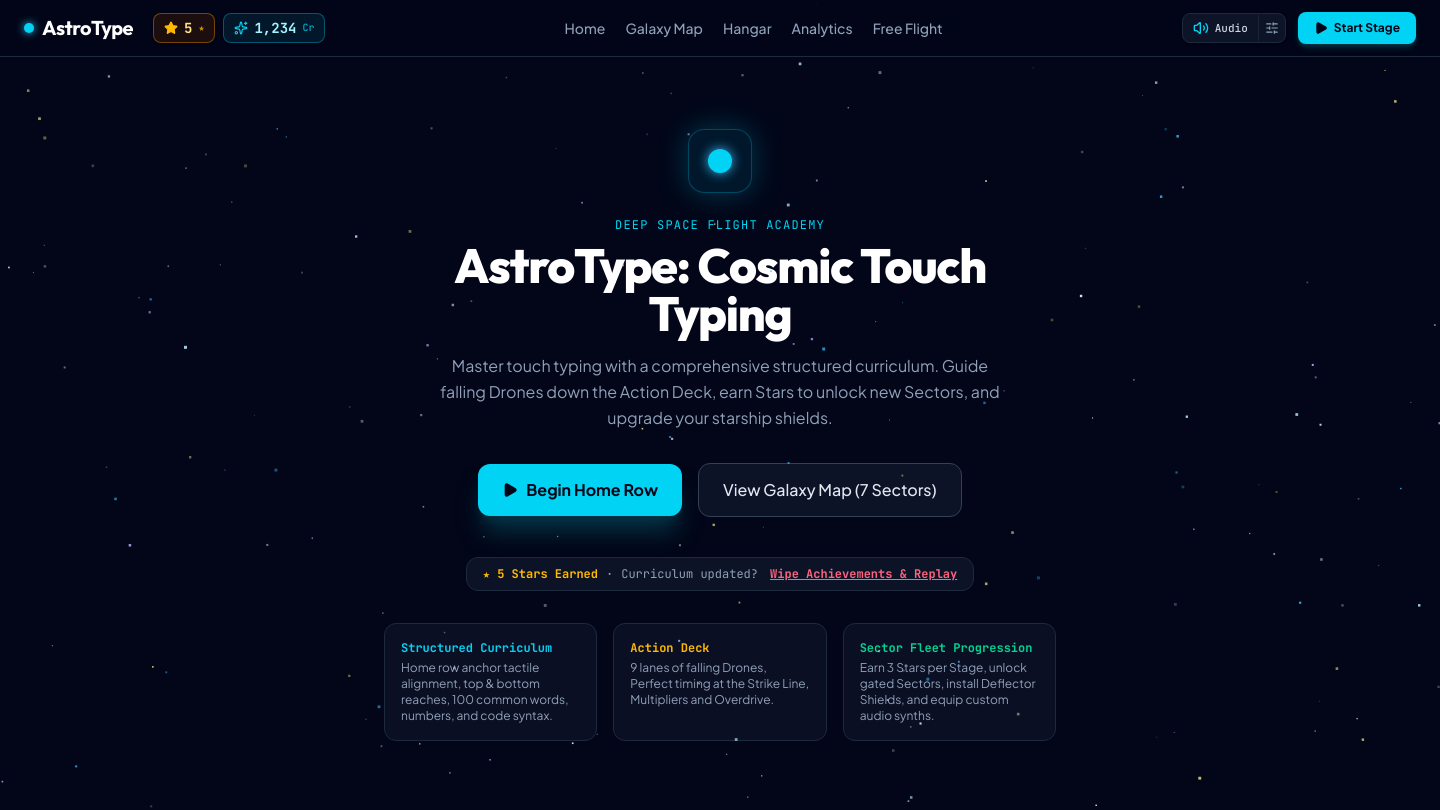
the audio panel › opens and closes with its settings button
Click the button named "Open Audio Flight Deck Settings".
click(1271, 28)  # box x1=1258 y1=15 x2=1285 y2=41
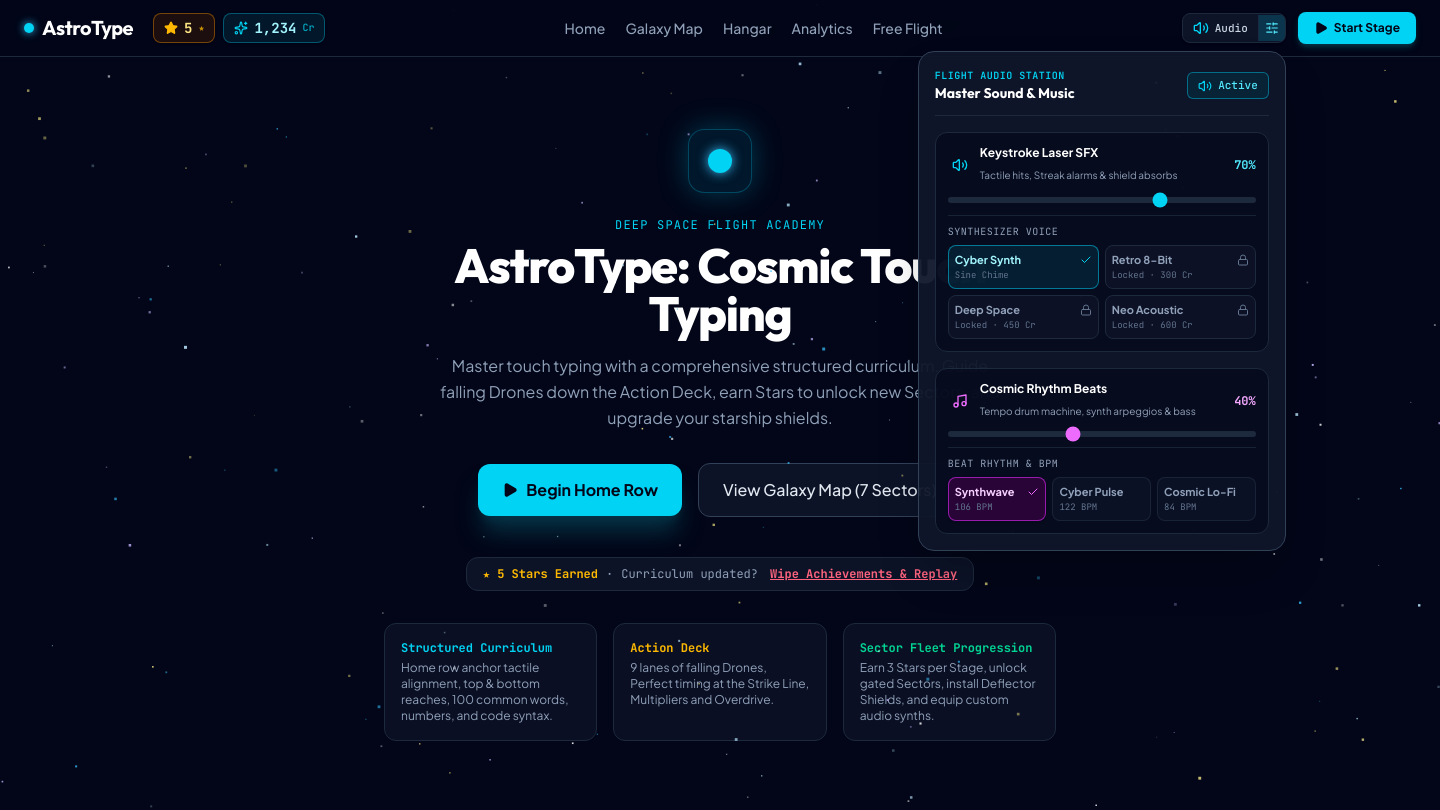
Expected: the number of sliders is 2, x1=948 y1=197 x2=1256 y2=203; x1=948 y1=431 x2=1256 y2=437
Click the button named "Open Audio Flight Deck Settings".
click(1271, 28)  # box x1=1258 y1=15 x2=1285 y2=41
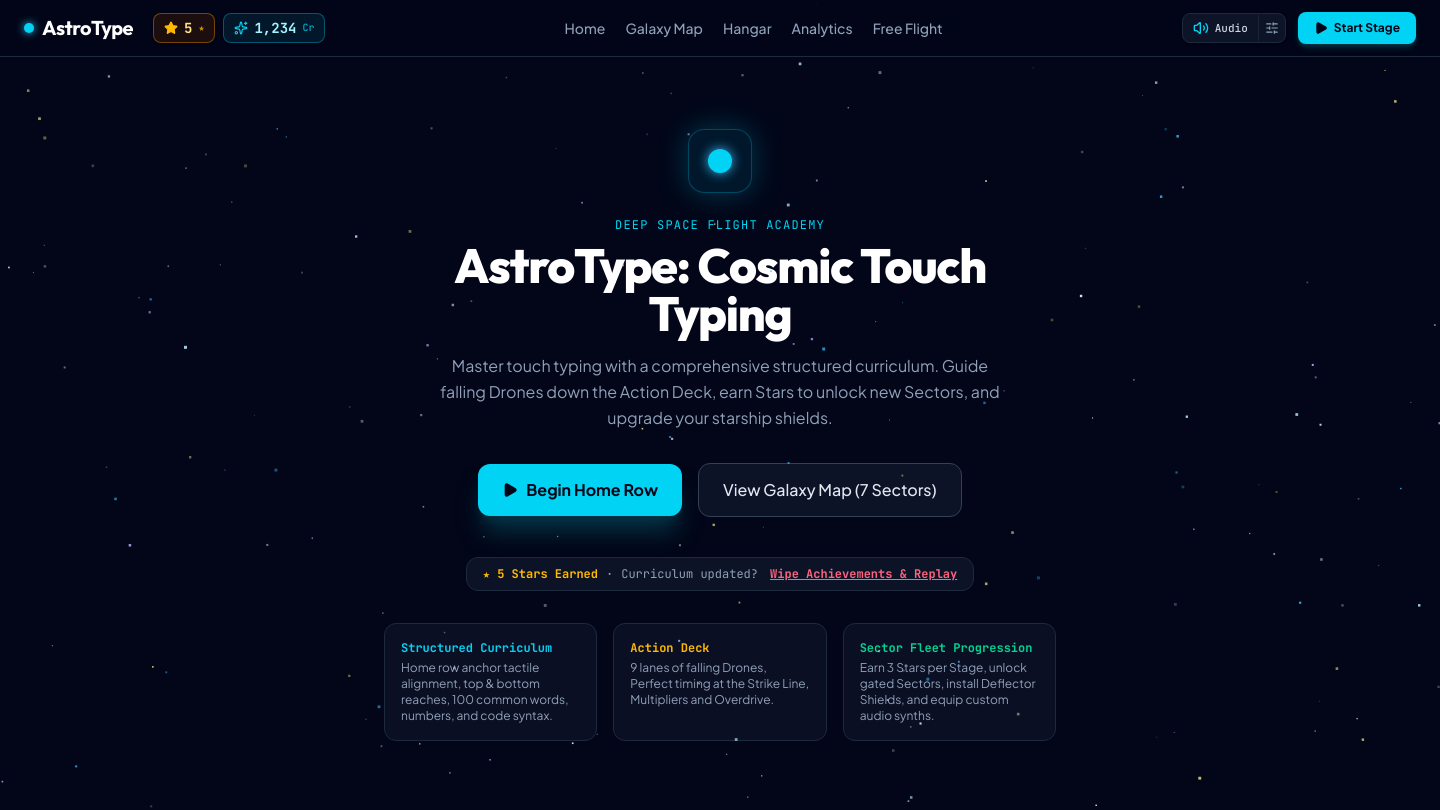
Expected: no sliders are shown
